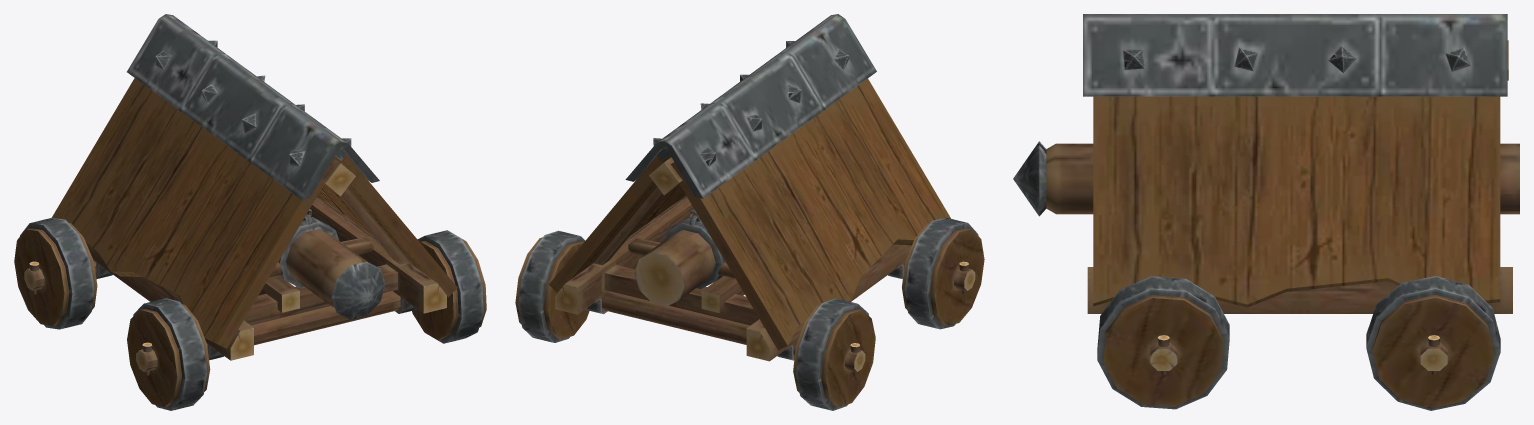
File: battering-ram.lod0.glb
3 views of the same model, side by side, from view 1: azimuth 30°, elevation 25°; view 2: azimuth 150°, elevation 25°; view 3: azimuth 270°, elevation 25° (orthographic). The views are drawn at different scales.
Visible parts, largest first — view 1: Battering_ram_Battering_ram_0; view 2: Battering_ram_Battering_ram_0; view 3: Battering_ram_Battering_ram_0.
Part boxes in pixels (x1,y1,x2,y2): Battering_ram_Battering_ram_0: [14, 14, 486, 410]; Battering_ram_Battering_ram_0: [515, 14, 984, 410]; Battering_ram_Battering_ram_0: [1013, 14, 1519, 410].
Size of what is drawn, in the model's own units: 2.98 by 2.16 by 3.23.
Materials: 1 (1 with a texture image).
